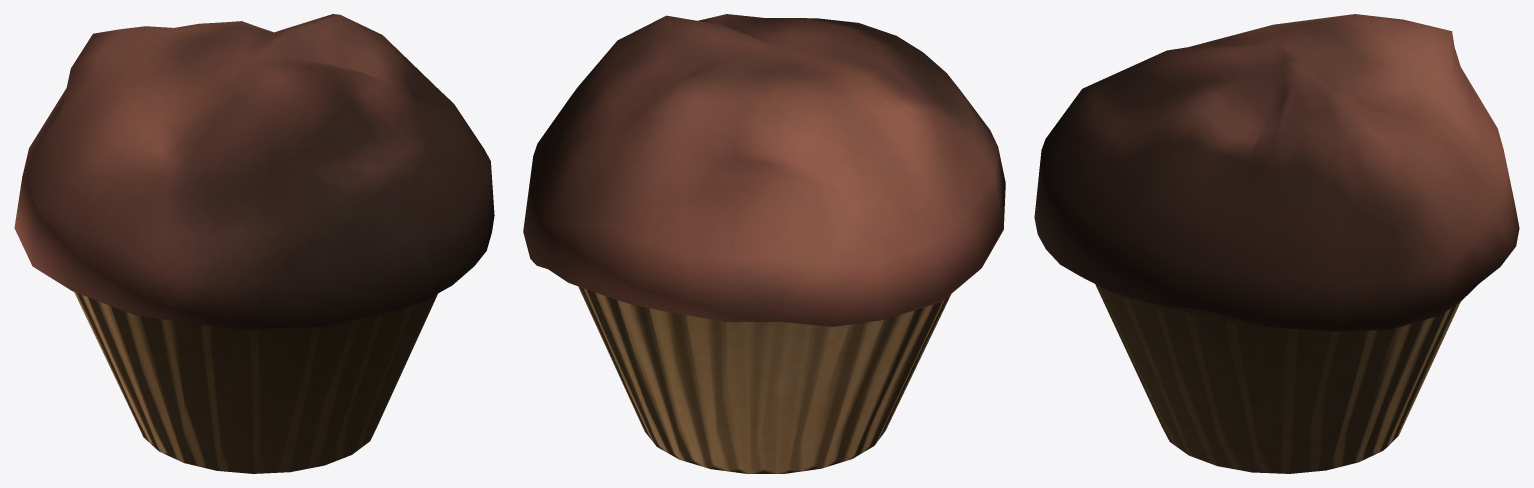
The model's file is muffin.fbx.
The picture shows the model from 3 angles, left to right: view 1: azimuth 30°, elevation 25°; view 2: azimuth 150°, elevation 25°; view 3: azimuth 270°, elevation 25°; orthographic projection. The views are drawn at different scales.
Visible parts, largest first — view 1: Mesh; view 2: Mesh; view 3: Mesh.
Boxes of the visible parts, box(x1,y1,x2,y2) form: Mesh: box(14, 14, 494, 473); Mesh: box(523, 14, 1005, 473); Mesh: box(1034, 14, 1519, 473).
Size of the model in its own units: 7.84 by 7.06 by 8.05.
Materials: 1 (1 with a texture image).
